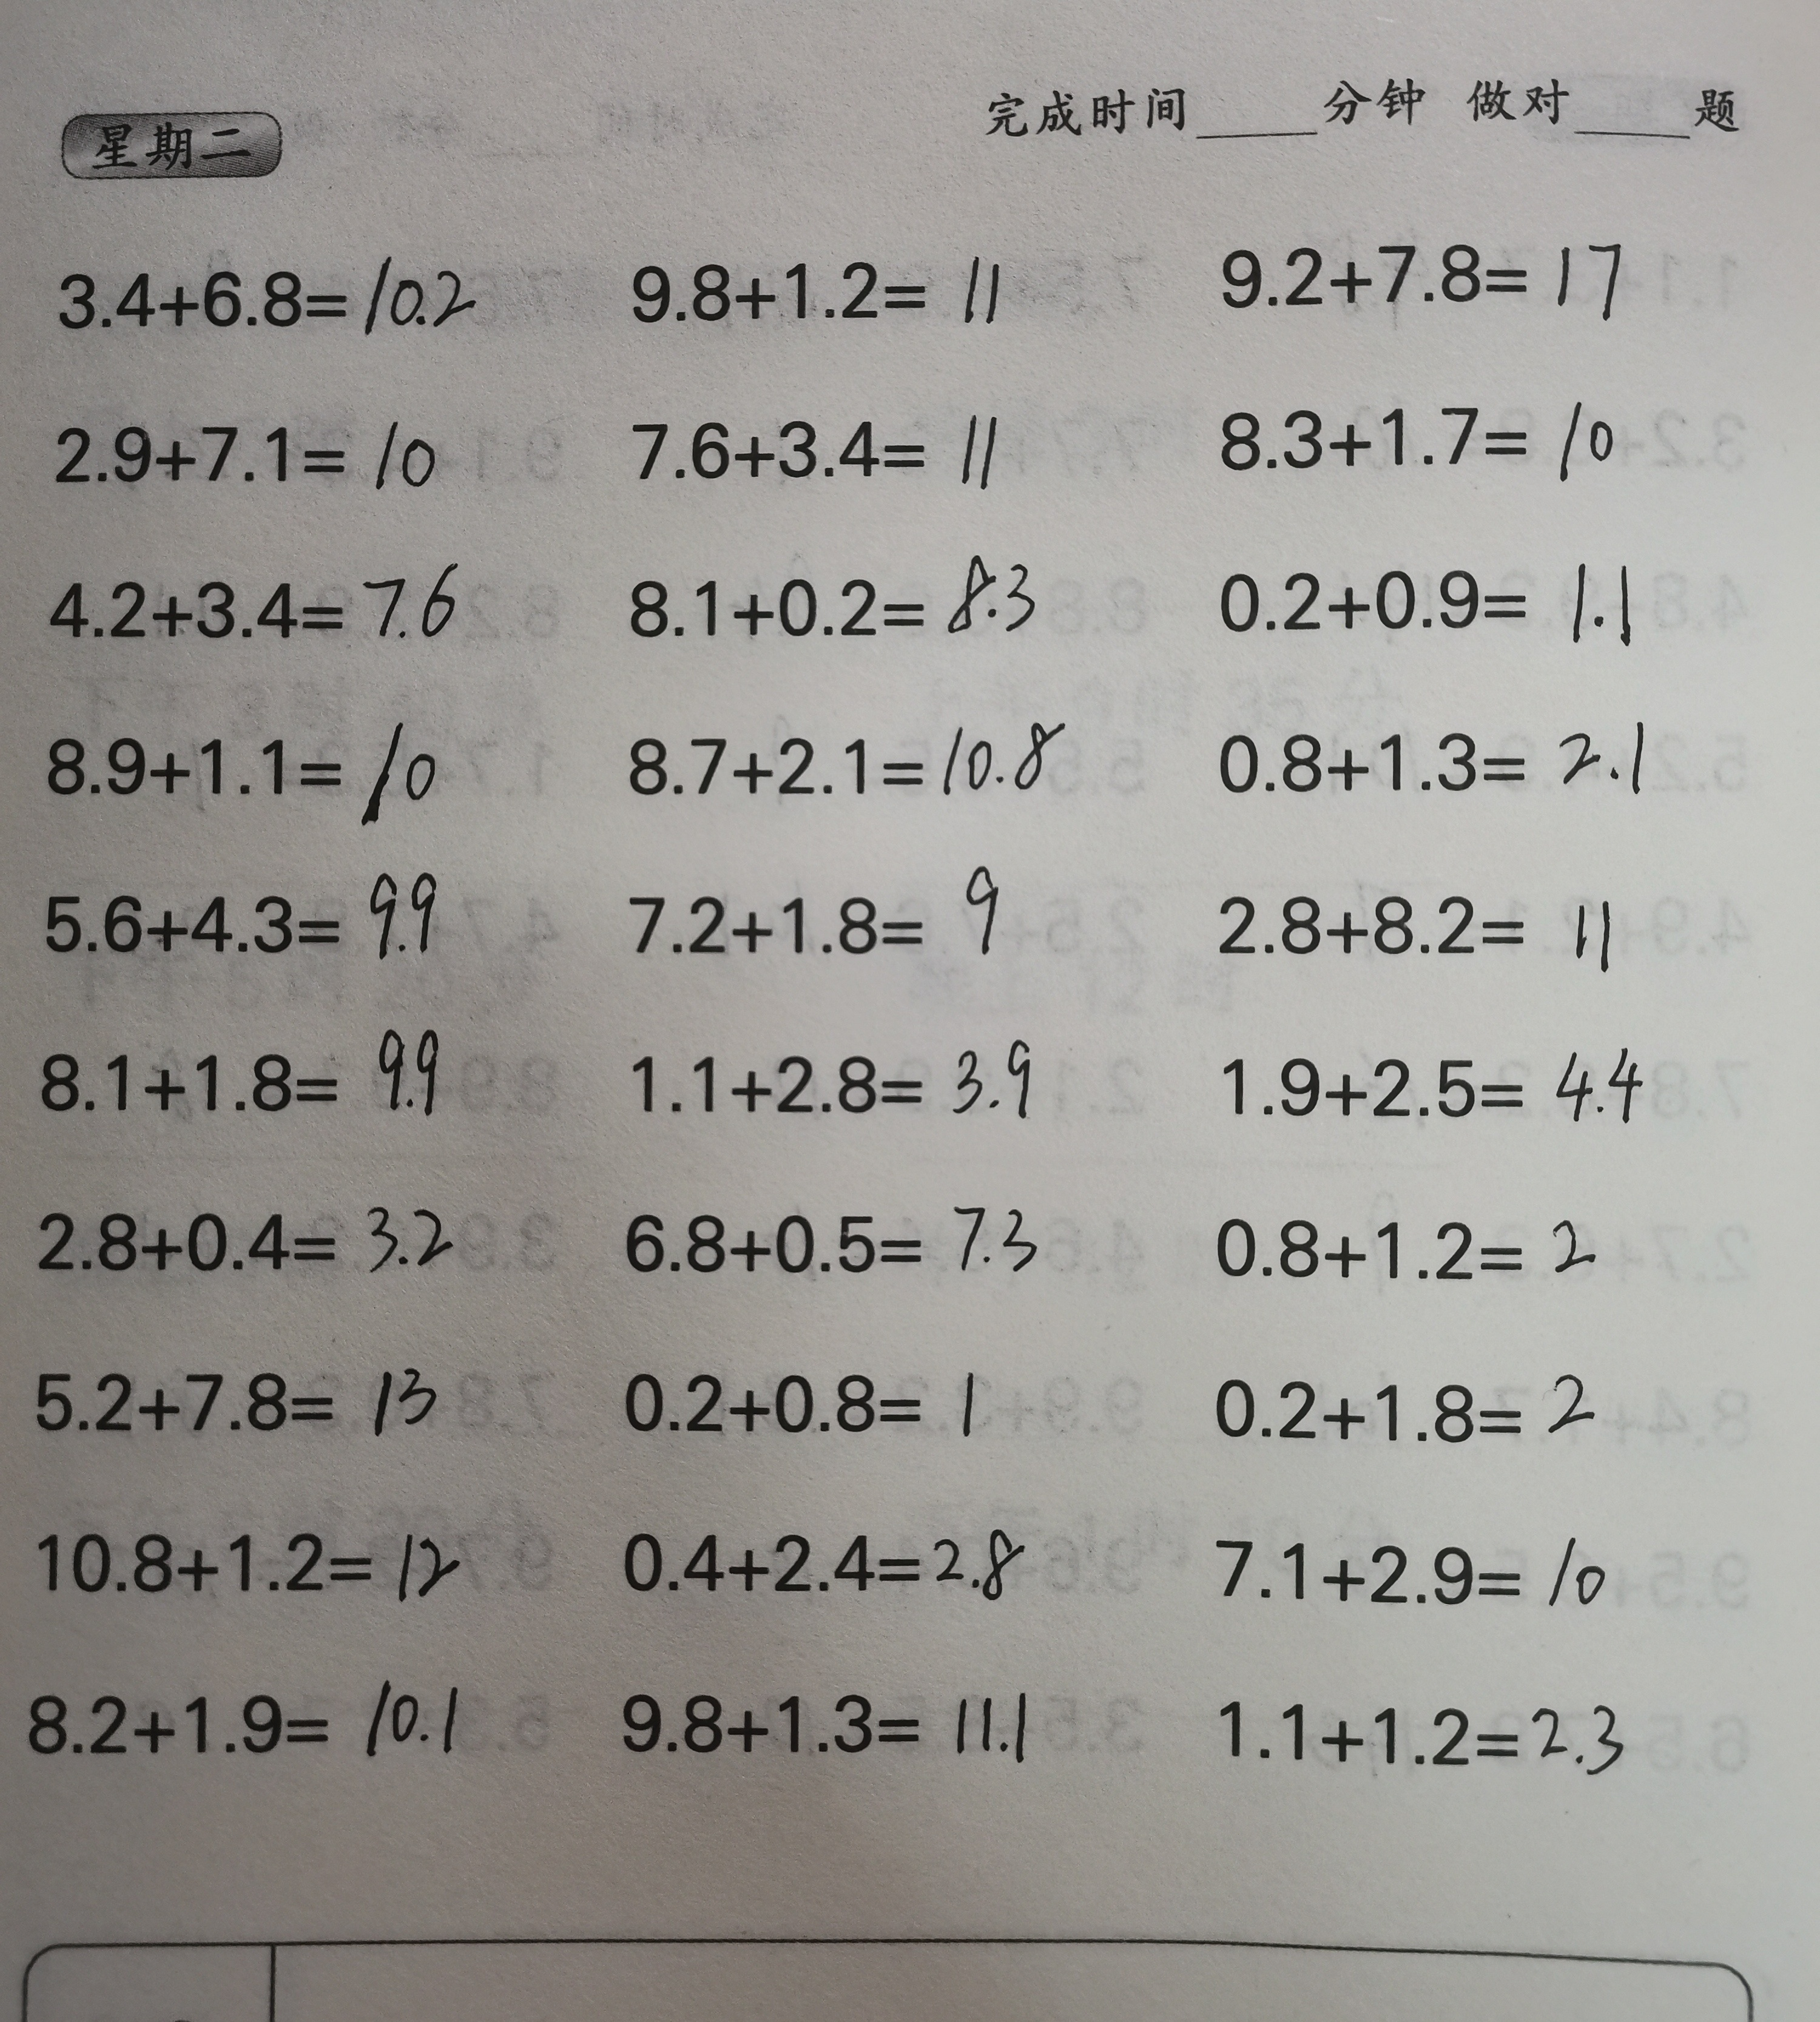equation: (1195, 1672, 1657, 1795), (617, 1015, 1042, 1147), (1203, 211, 1641, 330), (32, 1010, 462, 1131), (16, 1664, 471, 1776), (613, 850, 1014, 977), (1200, 703, 1667, 810), (1186, 1509, 1630, 1621), (604, 1182, 1054, 1293), (1195, 863, 1637, 975), (606, 694, 1061, 803), (610, 1498, 1028, 1616), (28, 710, 457, 822), (40, 241, 488, 348), (1210, 545, 1650, 654), (44, 550, 483, 657), (624, 534, 1049, 645), (1212, 1028, 1665, 1131), (40, 861, 450, 975), (611, 1667, 1054, 1773), (1196, 1195, 1613, 1305), (32, 1507, 471, 1611), (1202, 381, 1632, 487), (617, 221, 1008, 336), (28, 1184, 457, 1288), (23, 1342, 448, 1444), (44, 402, 453, 506), (1200, 1363, 1621, 1456), (611, 1354, 1007, 1453), (620, 395, 1008, 495)
